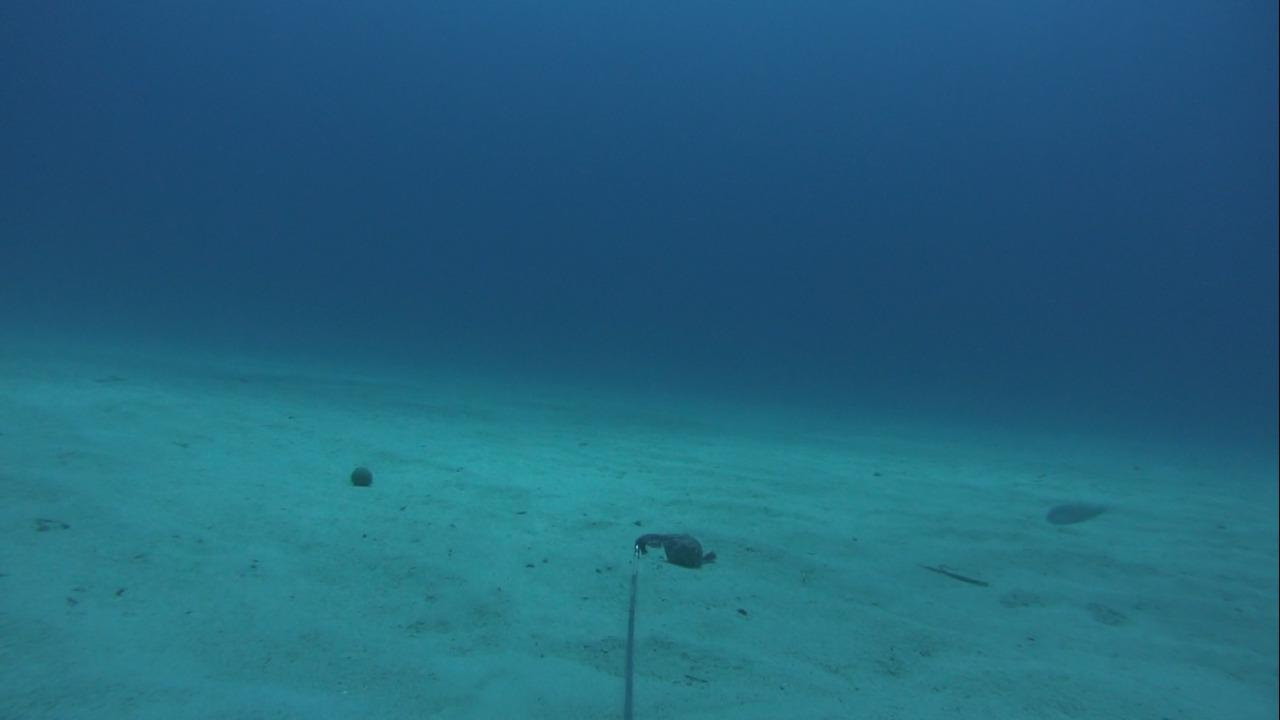raor: (1039, 493, 1124, 528)
